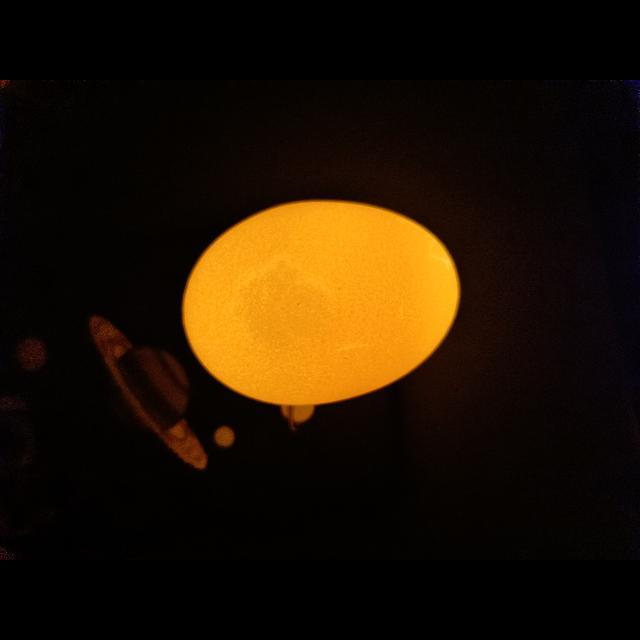AA - Premium: (183, 201, 460, 406)
